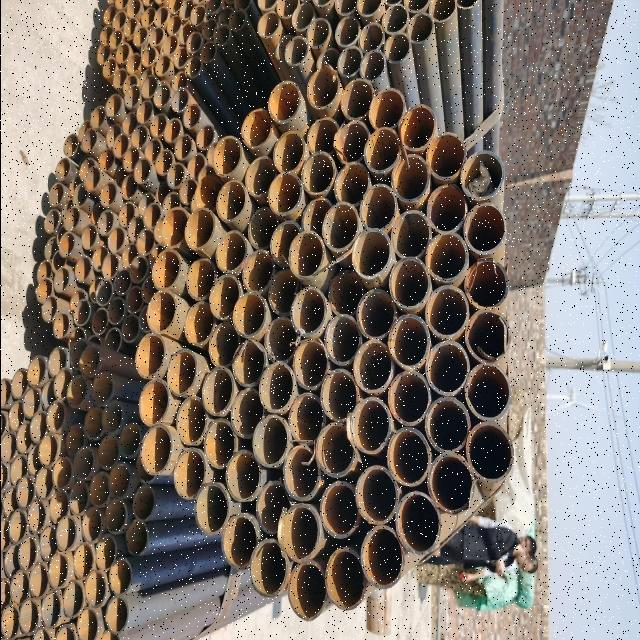pipe: (322, 548, 366, 612), (396, 492, 440, 556), (428, 452, 472, 516), (359, 528, 403, 590), (354, 466, 398, 528), (466, 362, 510, 424), (465, 424, 513, 479), (349, 396, 392, 456), (424, 398, 470, 454), (424, 286, 470, 341), (387, 428, 429, 488), (465, 310, 511, 364), (318, 482, 359, 540), (464, 203, 508, 257), (350, 228, 393, 282), (249, 540, 289, 598), (389, 314, 431, 369), (427, 341, 469, 396), (460, 151, 506, 201), (388, 370, 429, 426), (352, 340, 394, 394), (316, 422, 356, 478), (289, 562, 327, 620), (282, 506, 320, 564), (425, 233, 469, 283), (258, 479, 294, 539), (221, 514, 259, 570), (320, 368, 358, 424), (464, 260, 508, 308), (426, 184, 468, 234), (324, 314, 362, 368), (289, 391, 325, 447), (390, 212, 432, 260), (283, 446, 319, 501), (258, 362, 296, 414), (251, 416, 289, 468), (391, 258, 429, 310), (356, 290, 396, 338), (426, 132, 466, 180), (172, 449, 208, 502), (292, 286, 328, 338), (323, 202, 359, 254), (399, 106, 439, 152), (195, 483, 229, 537), (326, 270, 364, 318), (392, 153, 430, 201), (264, 314, 300, 364), (289, 231, 325, 281), (201, 418, 235, 470), (226, 450, 260, 502), (359, 186, 397, 232), (267, 269, 303, 317), (333, 162, 370, 208), (138, 426, 172, 476), (231, 390, 265, 440), (294, 340, 328, 390), (331, 120, 369, 164), (232, 341, 268, 387), (266, 80, 302, 126), (364, 127, 398, 175), (138, 377, 170, 427), (176, 398, 208, 448), (182, 300, 216, 346), (181, 207, 215, 253), (232, 292, 266, 338), (240, 248, 274, 294), (267, 174, 303, 217), (208, 321, 240, 369), (202, 368, 234, 416), (270, 221, 302, 269), (209, 274, 242, 320), (249, 206, 282, 252), (340, 78, 376, 120), (369, 89, 405, 131), (306, 66, 340, 110), (165, 349, 198, 393), (185, 258, 218, 302), (133, 334, 165, 379), (239, 110, 273, 152), (213, 230, 245, 274), (245, 156, 277, 200), (273, 130, 305, 174), (302, 151, 334, 195), (215, 180, 248, 222), (305, 118, 339, 158), (144, 292, 176, 334), (150, 249, 180, 293), (212, 135, 242, 177), (158, 208, 188, 248), (302, 198, 332, 238), (192, 176, 224, 213), (359, 51, 387, 83), (381, 4, 409, 36), (406, 12, 434, 44), (107, 462, 131, 499), (105, 598, 129, 634), (358, 22, 385, 54), (90, 372, 114, 407), (109, 558, 131, 596), (95, 534, 117, 572), (80, 506, 102, 544), (62, 582, 84, 620), (40, 591, 62, 629), (56, 515, 78, 553), (335, 16, 361, 48), (384, 34, 410, 66), (338, 45, 362, 79), (118, 423, 141, 458), (88, 471, 110, 507), (73, 446, 95, 482), (75, 607, 99, 640), (84, 572, 106, 608), (48, 488, 70, 524), (52, 455, 74, 491), (16, 536, 38, 572), (125, 522, 148, 556), (1, 603, 22, 640), (101, 401, 123, 436), (37, 433, 59, 468), (316, 48, 340, 80), (48, 552, 68, 590), (18, 598, 38, 636), (29, 563, 49, 601), (38, 524, 58, 562), (27, 498, 47, 536), (73, 544, 94, 580), (133, 486, 155, 520), (98, 435, 120, 469), (83, 406, 105, 440), (78, 345, 101, 377), (68, 481, 89, 516), (292, 1, 314, 34), (8, 510, 28, 546), (105, 501, 127, 533), (64, 424, 86, 456), (66, 376, 88, 408), (286, 36, 308, 68), (307, 18, 329, 50), (9, 453, 29, 488), (2, 542, 22, 576), (34, 466, 54, 500), (15, 476, 35, 510), (21, 388, 42, 420), (428, 1, 456, 25), (10, 570, 28, 607), (160, 192, 182, 222), (2, 486, 20, 522), (29, 412, 48, 446), (135, 452, 155, 484), (46, 401, 66, 433), (27, 356, 47, 388), (257, 12, 279, 40), (275, 34, 293, 68), (69, 339, 88, 371), (53, 371, 73, 401), (12, 368, 30, 401), (16, 422, 33, 456), (8, 402, 26, 434), (135, 229, 155, 257), (41, 378, 57, 412), (27, 444, 43, 478), (1, 432, 18, 464), (48, 348, 66, 378), (133, 158, 151, 188), (105, 123, 123, 153), (155, 150, 175, 177), (128, 256, 147, 284), (125, 286, 144, 314), (122, 314, 139, 344), (104, 327, 122, 355), (174, 134, 192, 162), (166, 162, 184, 190), (144, 203, 162, 231), (107, 298, 125, 326), (73, 299, 91, 327), (52, 314, 70, 342), (40, 296, 58, 324), (102, 252, 120, 280), (118, 202, 136, 230), (138, 194, 156, 222), (153, 82, 171, 110), (182, 104, 201, 130), (171, 88, 189, 115), (92, 308, 108, 338), (165, 117, 182, 145), (68, 327, 86, 353), (187, 153, 205, 179), (196, 124, 214, 150), (113, 270, 131, 296), (74, 257, 92, 283), (107, 228, 125, 254), (126, 218, 144, 244), (357, 1, 383, 19), (88, 105, 105, 132), (149, 244, 165, 272), (180, 179, 196, 207), (88, 277, 104, 305), (121, 244, 137, 272), (35, 280, 52, 306), (141, 76, 158, 102), (42, 238, 60, 262), (71, 184, 89, 208), (120, 176, 138, 200), (80, 129, 98, 153), (105, 94, 123, 118), (131, 125, 149, 149), (276, 0, 300, 18), (97, 280, 113, 306), (53, 268, 69, 294), (92, 246, 108, 272), (80, 224, 96, 250), (58, 233, 74, 259), (43, 209, 59, 235), (48, 183, 64, 209), (62, 134, 78, 160), (63, 207, 79, 233), (84, 167, 100, 193), (90, 202, 106, 228), (97, 212, 113, 238), (98, 148, 114, 174), (113, 133, 129, 159), (124, 146, 140, 172), (150, 115, 168, 138), (230, 9, 248, 32), (0, 518, 12, 552), (186, 56, 203, 80), (186, 31, 202, 56), (69, 289, 87, 311), (54, 158, 72, 180), (76, 122, 94, 144), (123, 86, 141, 108), (122, 75, 140, 97), (142, 276, 155, 306), (0, 378, 12, 410), (35, 260, 51, 284), (78, 159, 94, 183), (101, 183, 117, 207), (122, 114, 138, 138), (145, 140, 161, 164), (98, 26, 115, 48), (214, 25, 231, 47), (137, 102, 153, 125), (102, 4, 118, 27), (189, 4, 205, 27), (335, 0, 358, 16), (0, 578, 12, 608), (153, 218, 165, 248), (155, 56, 170, 80), (126, 53, 142, 75), (140, 46, 156, 68), (162, 35, 178, 57), (148, 27, 164, 49), (154, 6, 170, 28), (166, 14, 182, 36), (178, 24, 194, 46), (201, 42, 217, 64), (218, 5, 234, 27), (171, 72, 188, 92), (404, 1, 430, 14), (52, 250, 66, 274), (174, 48, 188, 72), (134, 27, 148, 50), (1, 461, 11, 493), (96, 45, 112, 65), (140, 8, 156, 28), (202, 20, 218, 40), (108, 31, 123, 52), (53, 626, 75, 640), (115, 168, 129, 190), (112, 10, 126, 32), (123, 18, 137, 40), (140, 304, 150, 334), (113, 70, 128, 90), (0, 411, 10, 439), (116, 44, 130, 64), (180, 1, 194, 20), (30, 628, 51, 640), (103, 58, 117, 76), (128, 1, 142, 19), (457, 1, 481, 10), (206, 1, 221, 14), (235, 1, 252, 12), (169, 1, 183, 14), (258, 1, 277, 10), (315, 0, 334, 8), (142, 0, 154, 8), (118, 1, 128, 10)
